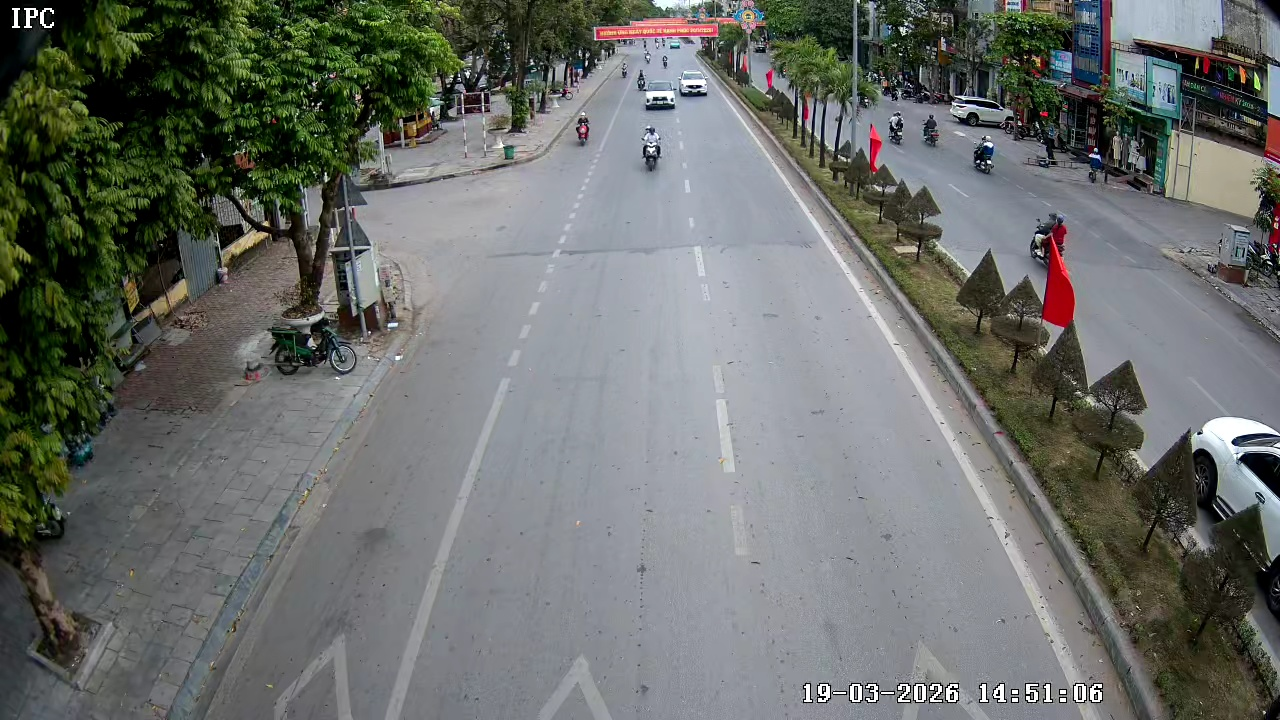car: (641, 76, 679, 113), (681, 69, 713, 100)
motorbike: (267, 310, 357, 381), (639, 123, 667, 174), (573, 110, 592, 147), (622, 62, 628, 77)
